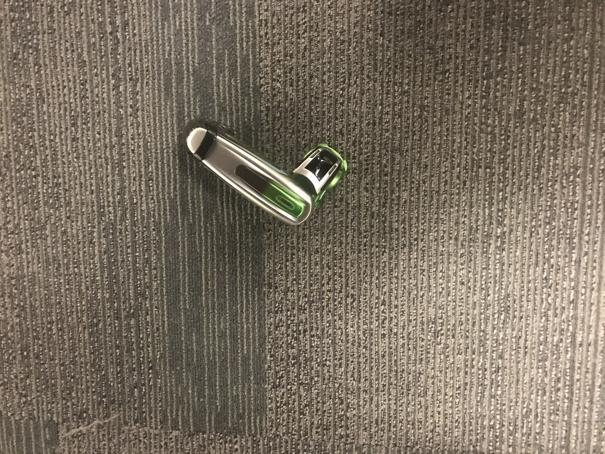Freewheel: (184, 117, 351, 228)
